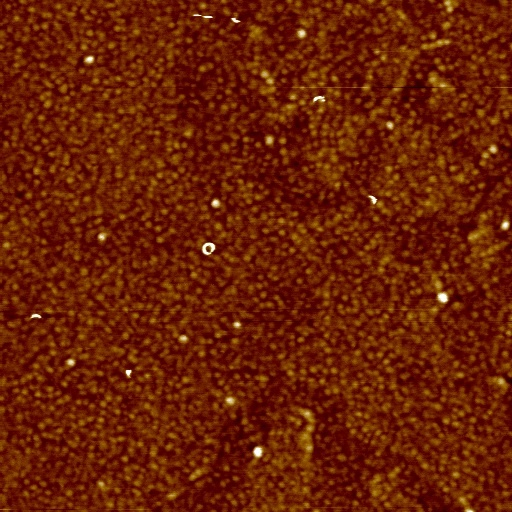-1: (436, 288, 450, 303), (499, 219, 511, 234), (84, 55, 95, 68), (211, 199, 222, 211), (295, 27, 305, 40), (254, 445, 263, 459), (125, 369, 133, 379)
1/4: (190, 12, 214, 21), (366, 194, 381, 207), (28, 312, 44, 323), (309, 95, 330, 103), (229, 15, 242, 27)
4/4: (200, 241, 218, 258)
